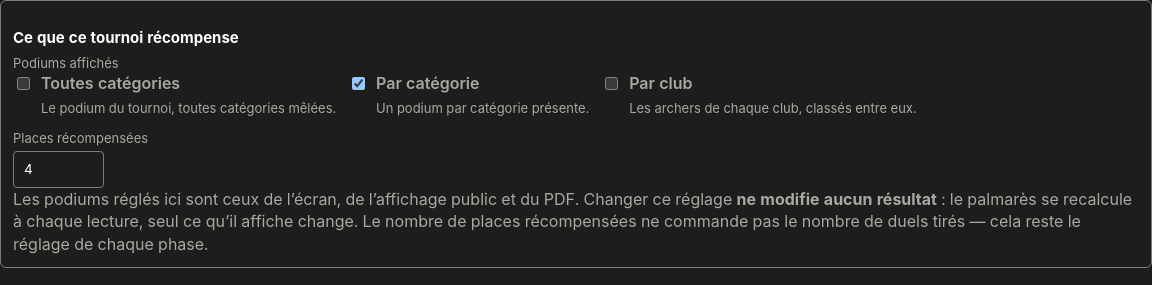
Test: ReglagePodiums › refuse une profondeur nulle sans rien envoyer, et ramène le champ à la valeur retenue
Expected: the checkbox labelled "Par catégorie Un podium par catégorie présente." is checked, [352, 77, 365, 90]
Replace the text in the number field labelled "Places récompensées" with "0" at x=58, y=169, box [13, 151, 104, 188]
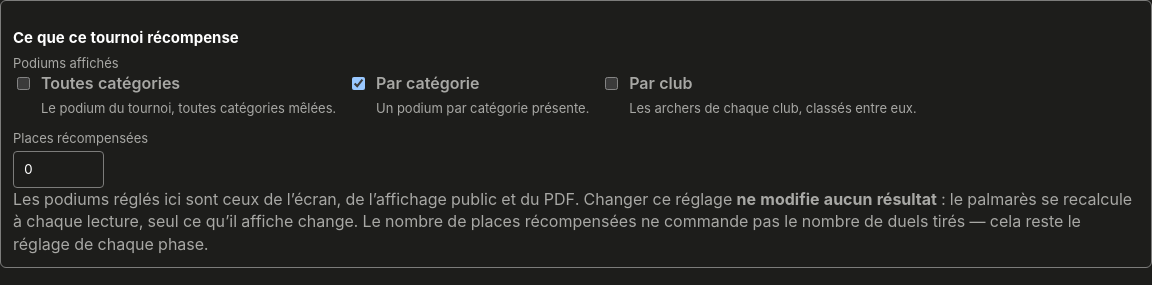
Leave the number field labelled "Places récompensées", box [13, 151, 104, 188]
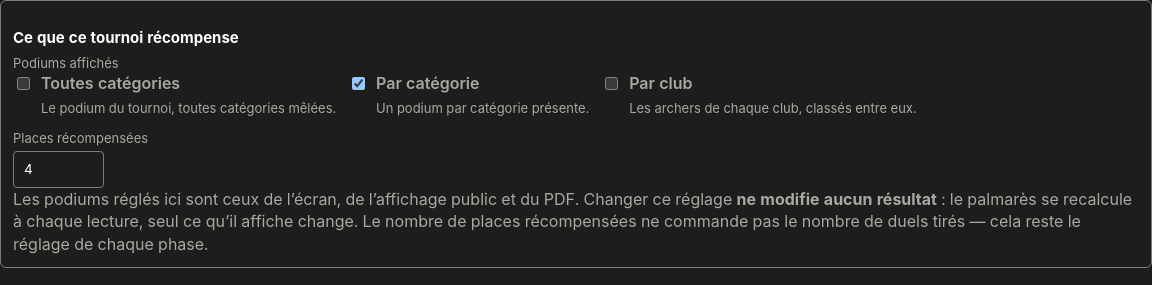
Now the number field labelled "Places récompensées" holds "4", box [13, 151, 104, 188]
